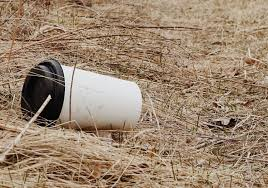cup: (21, 57, 143, 131)
